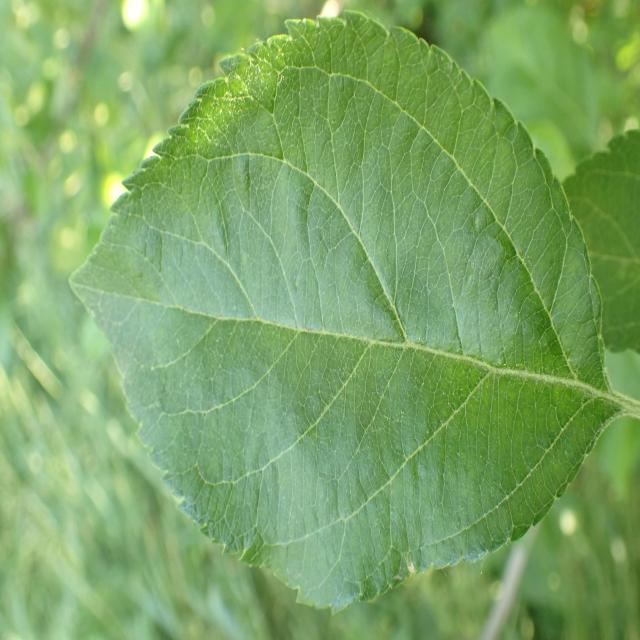healthy: (69, 9, 618, 616), (560, 129, 640, 356)
